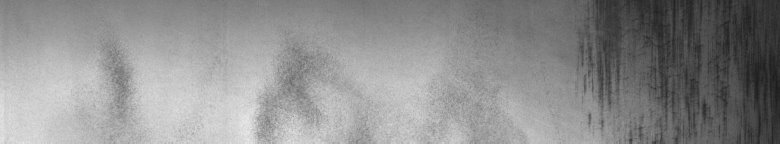ka: (580, 4, 766, 136)
